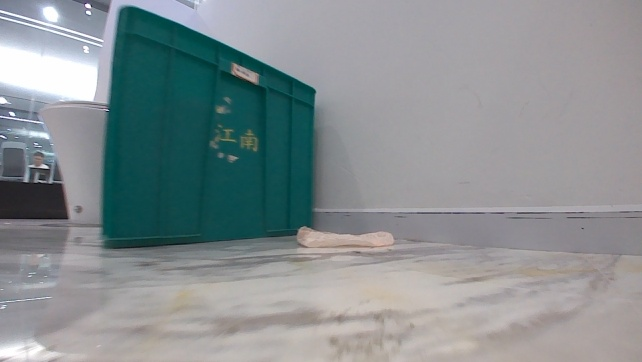socks: (294, 221, 395, 250)
toilet: (36, 95, 110, 228)
